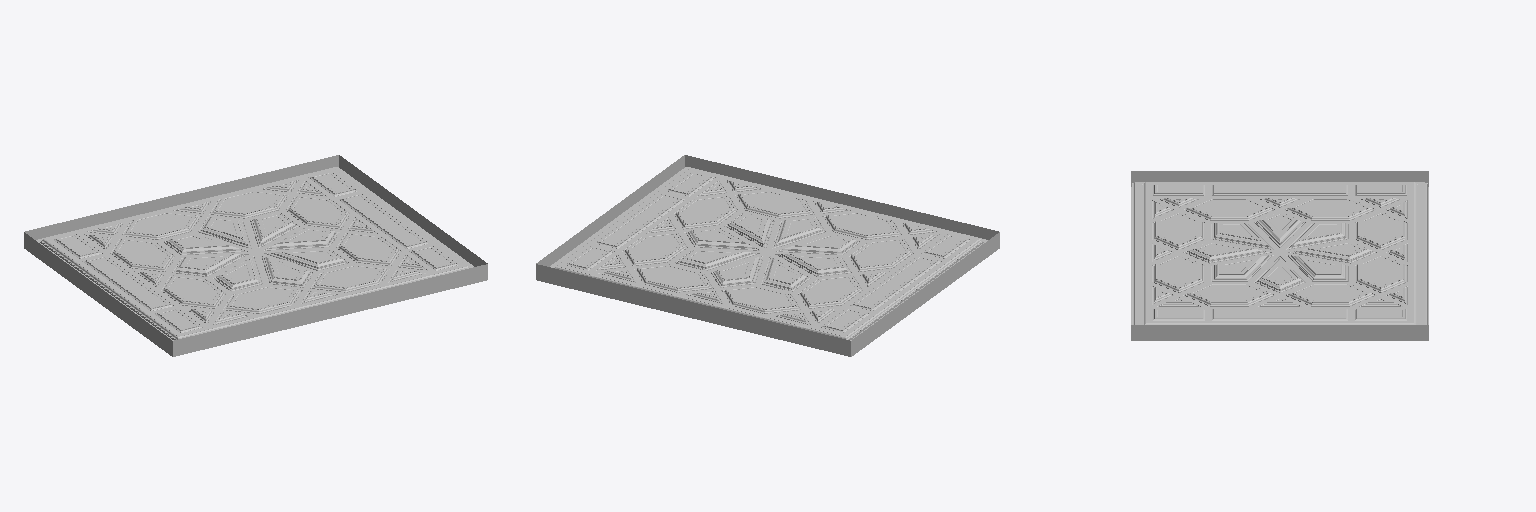
3 renders of one model, left to right at view 1: azimuth 30°, elevation 25°; view 2: azimuth 150°, elevation 25°; view 3: azimuth 270°, elevation 25°, orthographic.
Visible parts, largest first — view 1: 0_0_0_object_43.001_defaultMat.001_0; view 2: 0_0_0_object_43.001_defaultMat.001_0; view 3: 0_0_0_object_43.001_defaultMat.001_0.
Boxes of the visible parts, <box> form: 0_0_0_object_43.001_defaultMat.001_0: <box>24,155,487,356</box>; 0_0_0_object_43.001_defaultMat.001_0: <box>536,155,999,356</box>; 0_0_0_object_43.001_defaultMat.001_0: <box>1131,171,1428,340</box>.
Bounding box in the file's own units: 5.5 × 0.2738 × 4.5.